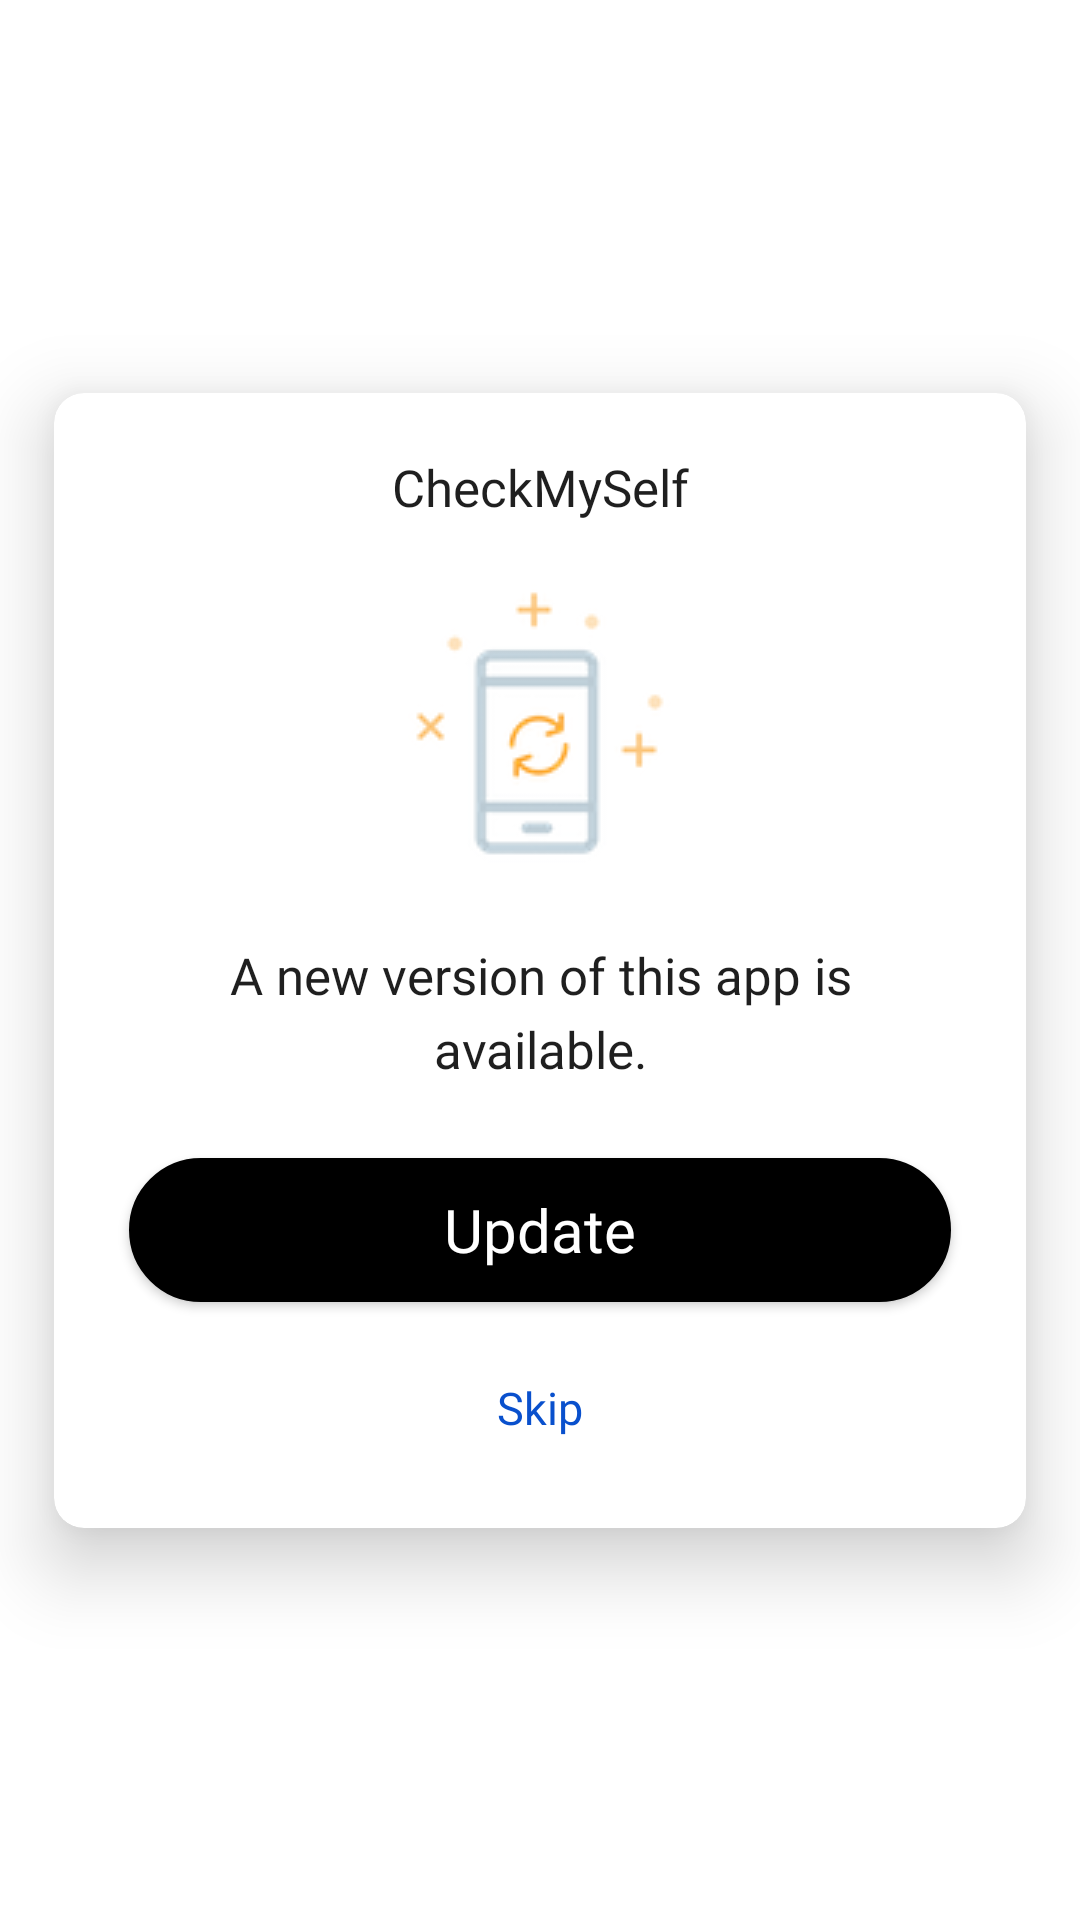

Named icons in this screenshot (1080×1920) and their centers, (x,y):
update version: (539,723)
